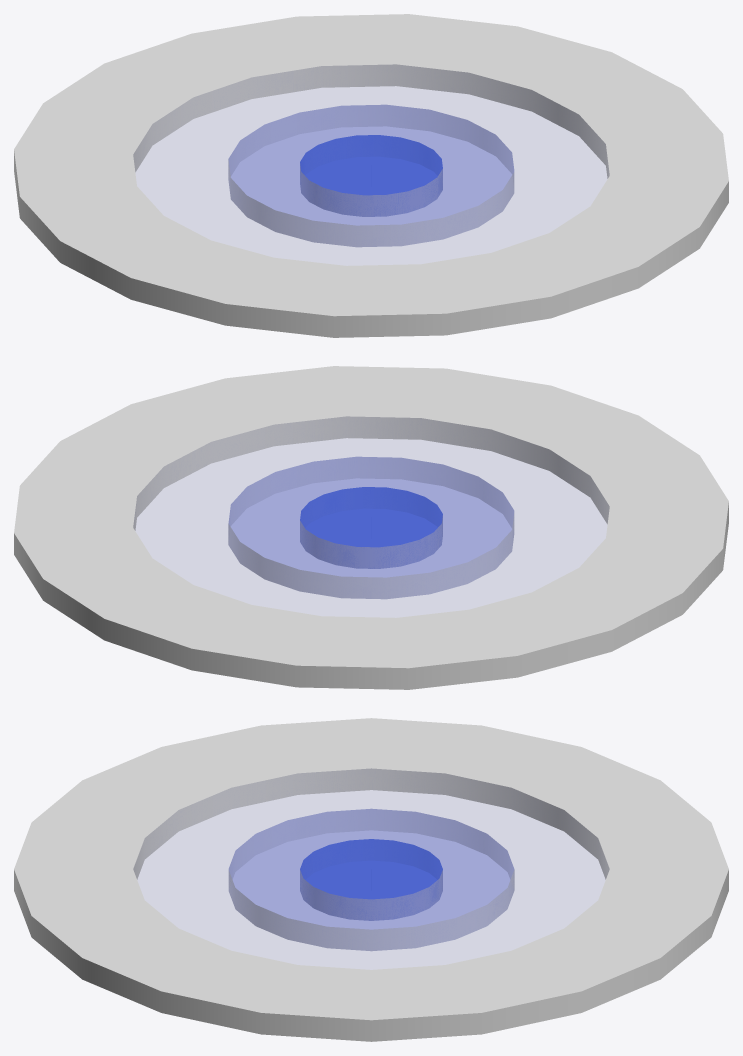
Rendered from LandingPosition.fbx.
3 views of the same model, one above another, from view 1: azimuth 30°, elevation 25°; view 2: azimuth 150°, elevation 25°; view 3: azimuth 270°, elevation 25° (orthographic).
Visible parts, largest first — view 1: pPipe1, pPipe2, pPipe3, pPipe4; view 2: pPipe1, pPipe2, pPipe3, pPipe4; view 3: pPipe1, pPipe2, pPipe3, pPipe4.
Part boxes in pixels (x1,y1,x2,y2): pPipe1: (14, 14, 728, 337); pPipe2: (133, 64, 609, 265); pPipe3: (228, 104, 514, 247); pPipe4: (300, 135, 442, 216); pPipe1: (14, 366, 728, 689); pPipe2: (133, 416, 609, 617); pPipe3: (228, 456, 514, 599); pPipe4: (300, 487, 442, 568); pPipe1: (14, 718, 728, 1041); pPipe2: (133, 768, 609, 969); pPipe3: (228, 808, 514, 950); pPipe4: (300, 839, 442, 920).
Bounding box in the file's own units: 150 × 5 × 150.
